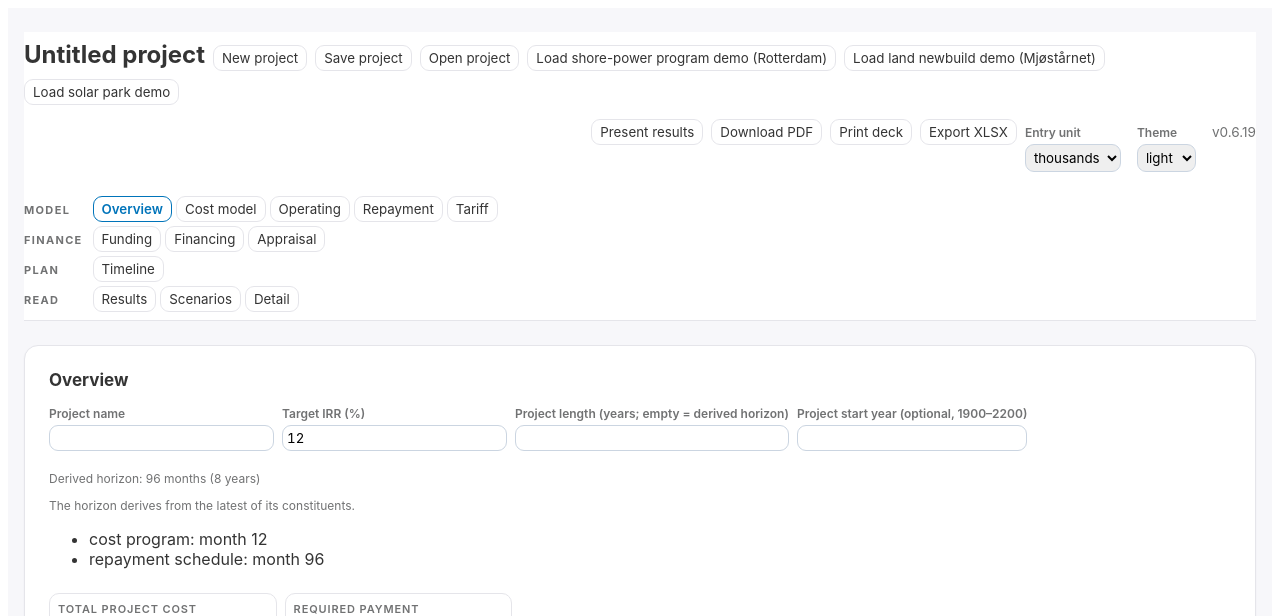
Test: Task R1/R2/R3 (v0.5.7R): the rendered reading class and the named peaks › APP-CHART-READING-CLASS: every app chart label renders through the reading class; the tables keep the standing format (v0.6.10 re-anchor: the shore-power progra
What coordinates should you click on to do the following:
click the button "Load shore-power program demo (Rotterdam)"
I would click on:
 (682, 58)
Its box is [527,45,836,71].
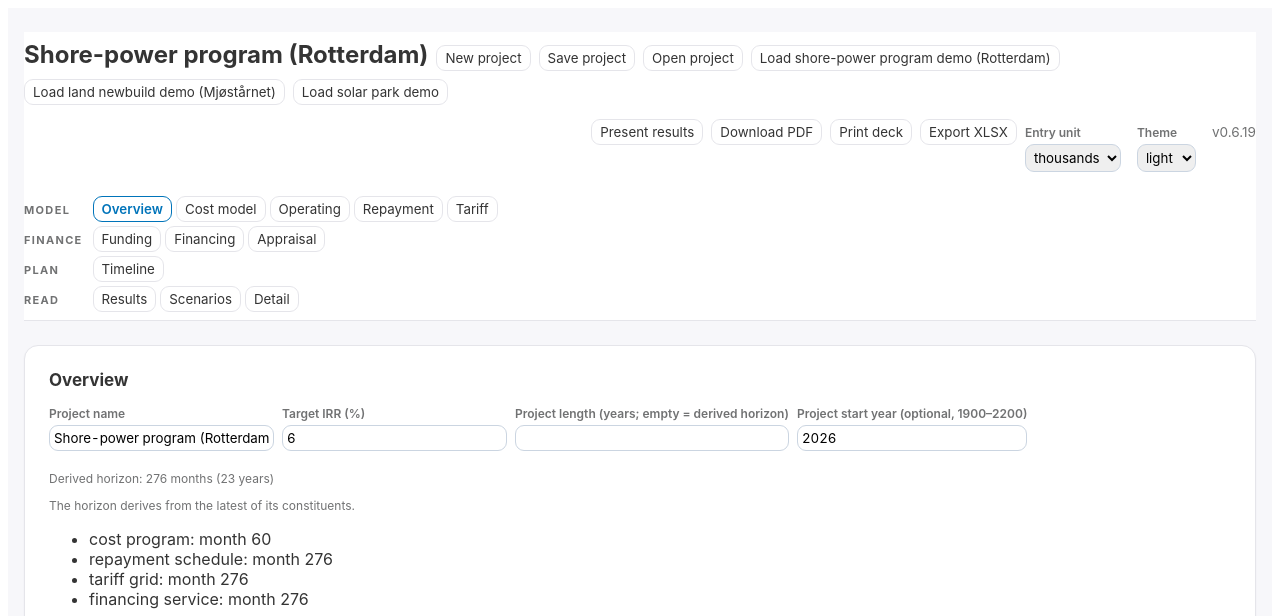
What coordinates should you click on to do the following:
click the button "Results"
I would click on:
 (124, 299)
Its box is [92,286,156,312].
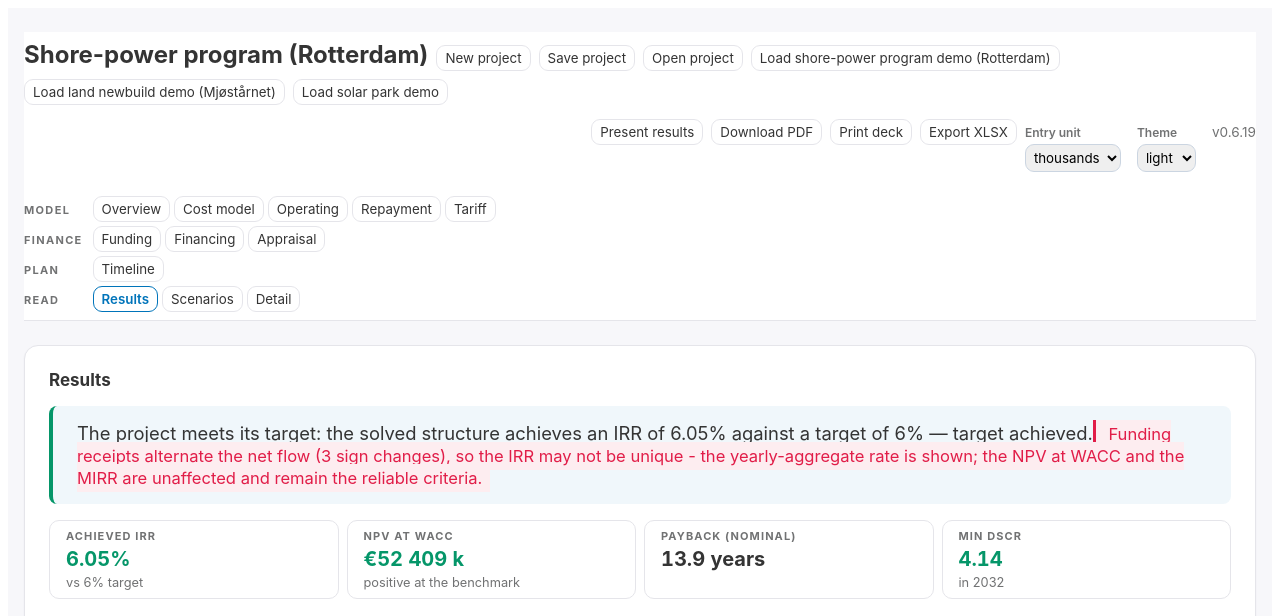
What coordinates should you click on to do the following:
click the button "Detail"
I would click on:
 (274, 299)
Its box is [247,286,300,312].
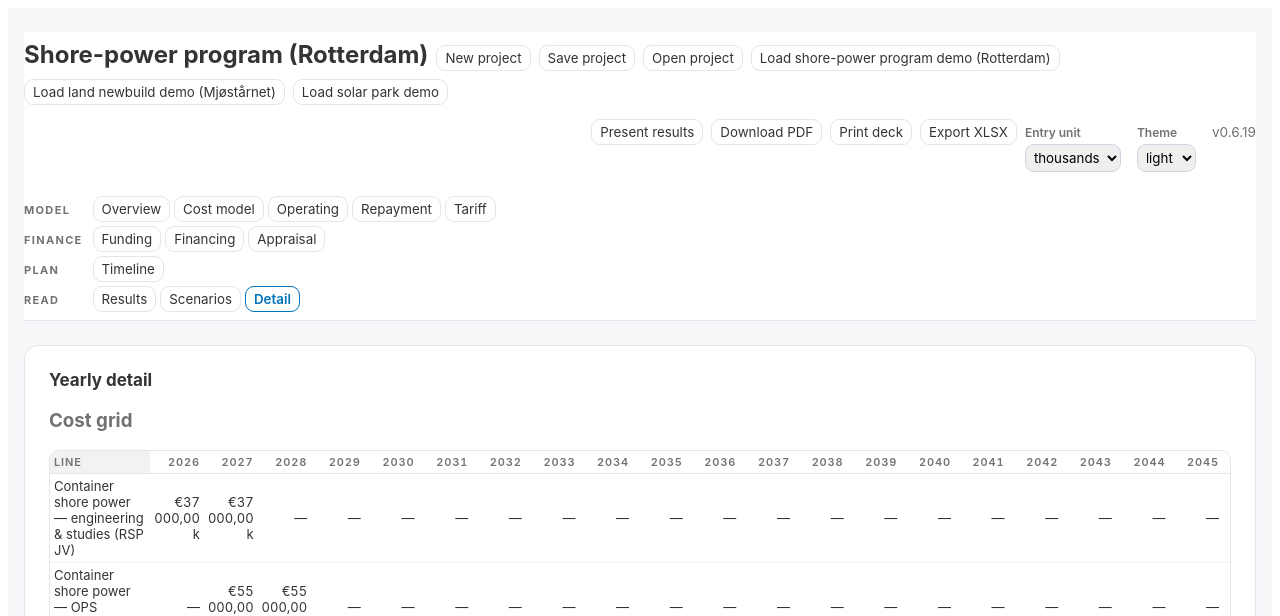
Now the 1st cell with class "table-value-cell" reads "€37 000,00 k", box [154,494,200,542]
